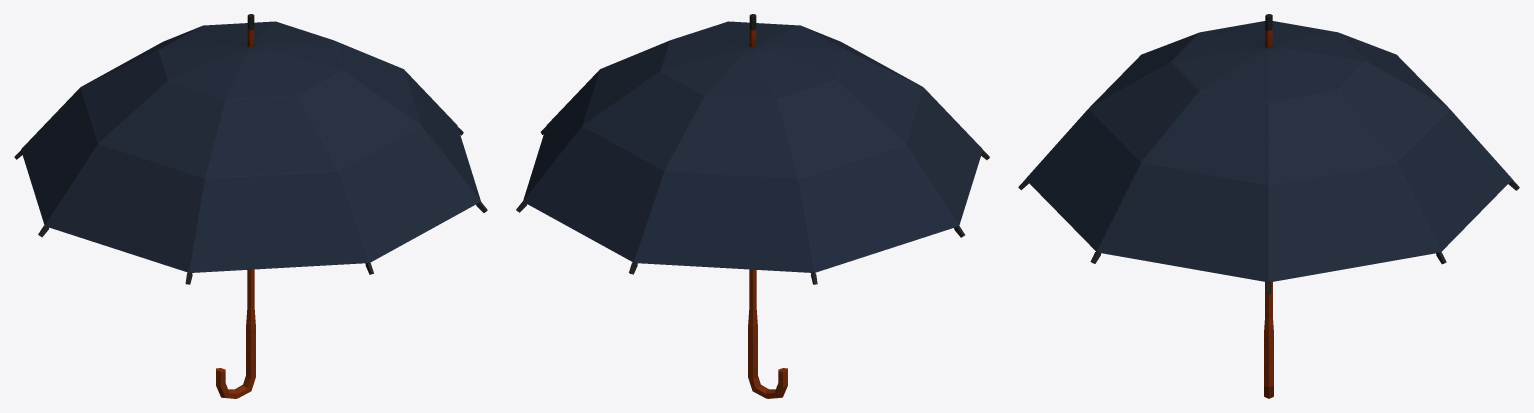
Rendered from Umbrella.obj.
The picture shows the model from 3 angles, left to right: view 1: azimuth 30°, elevation 25°; view 2: azimuth 150°, elevation 25°; view 3: azimuth 270°, elevation 25°; orthographic projection. The views are drawn at different scales.
Parts seen in each view (by area): view 1: Umbrella_mesh; view 2: Umbrella_mesh; view 3: Umbrella_mesh.
Part boxes in pixels (bbox=[...]): Umbrella_mesh: bbox=[14, 14, 487, 398]; Umbrella_mesh: bbox=[516, 14, 989, 398]; Umbrella_mesh: bbox=[1018, 14, 1519, 398].
Size of the model in its own units: 8.43 by 7.21 by 8.43.
1 material, 1 textured.
